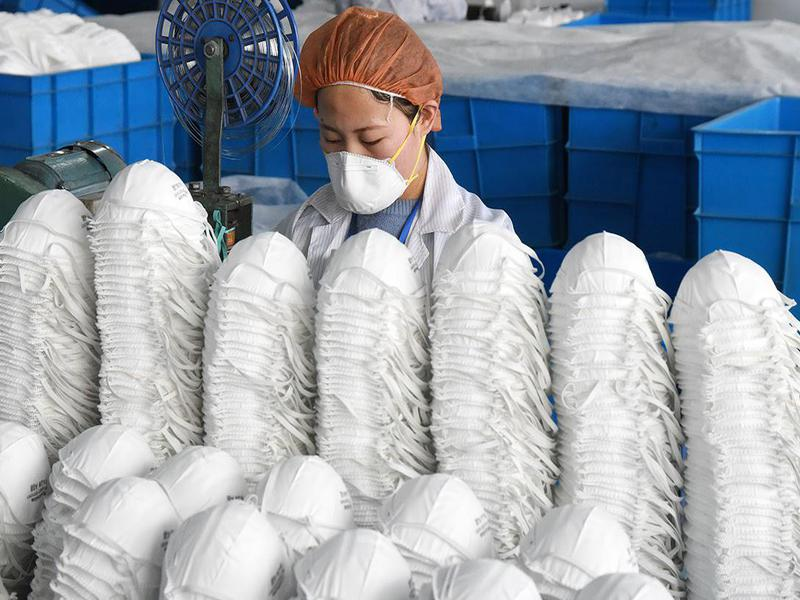with_mask: (297, 86, 433, 220)
